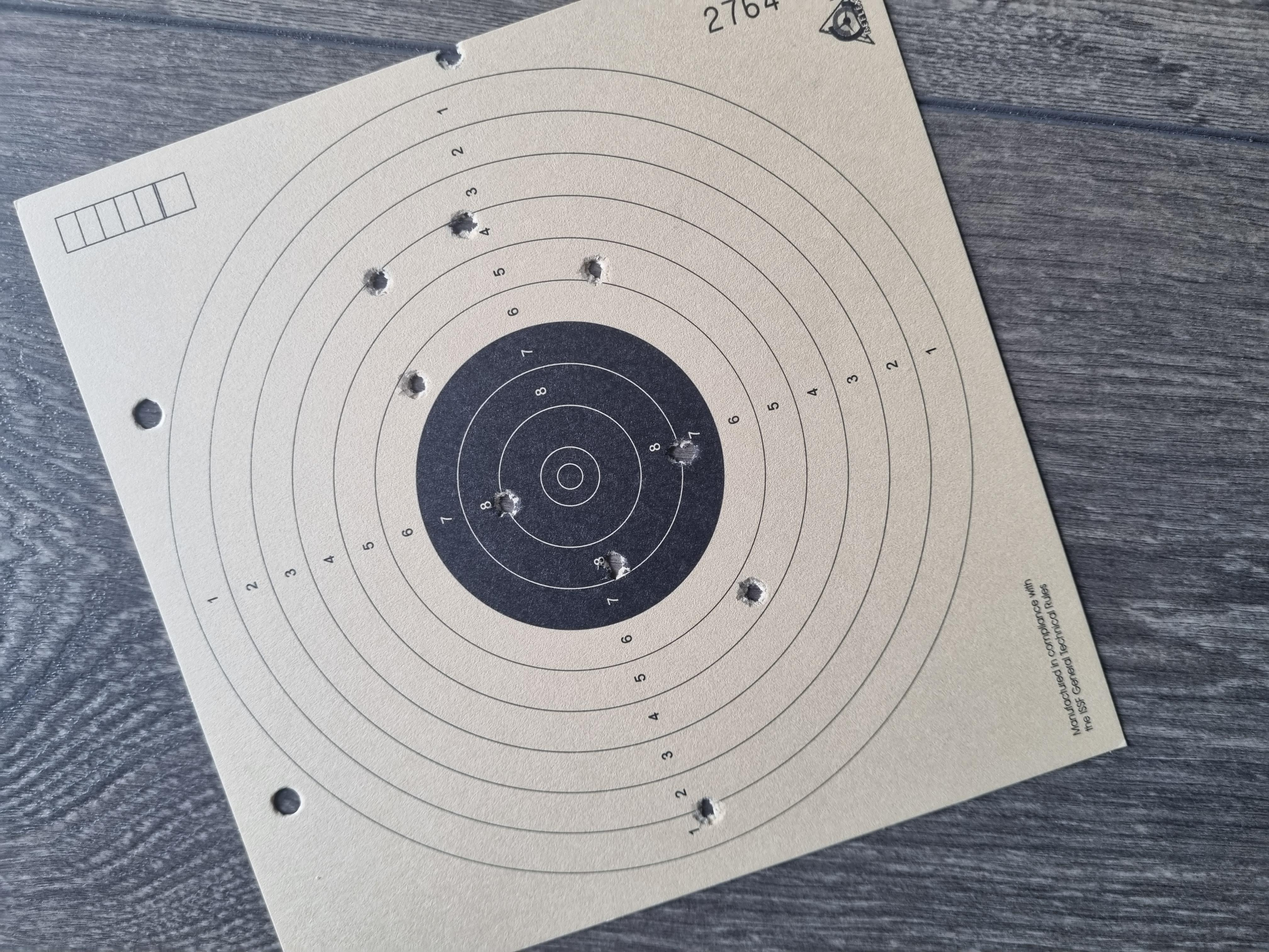hole: (160, 516, 212, 545), (732, 295, 778, 324), (453, 551, 500, 579), (566, 368, 621, 390), (943, 333, 989, 358), (491, 449, 535, 474), (873, 270, 915, 293), (890, 435, 930, 456), (1175, 327, 1210, 349), (646, 499, 687, 512), (647, 512, 683, 525)
